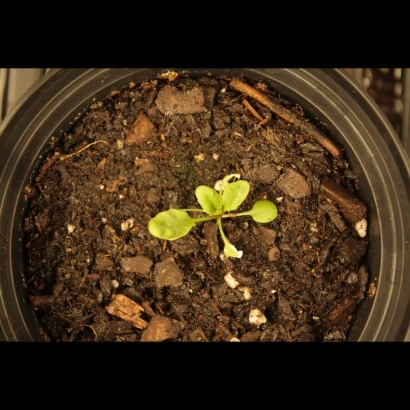leaf: (142, 206, 195, 244), (222, 176, 254, 213), (192, 182, 222, 217), (250, 196, 282, 225), (215, 237, 246, 265)
